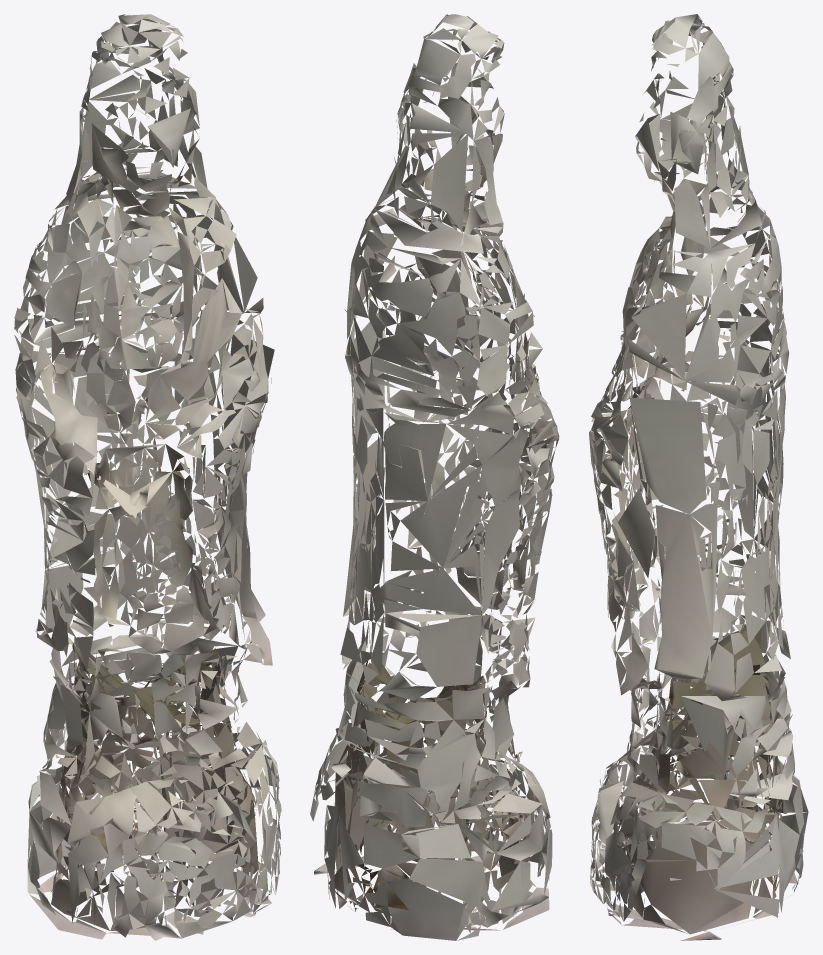
The model's file is far.glb.
3 views of the same model, side by side, from view 1: azimuth 30°, elevation 25°; view 2: azimuth 150°, elevation 25°; view 3: azimuth 270°, elevation 25° (orthographic). The views are drawn at different scales.
Visible parts, largest first — view 1: statue-035; view 2: statue-035; view 3: statue-035.
Part boxes in pixels (left/top/right/bottom): statue-035: left=14, top=14, right=281, bottom=940; statue-035: left=310, top=14, right=559, bottom=940; statue-035: left=589, top=14, right=808, bottom=940.
Size of the model in its own units: 0.2737 by 0.993 by 0.2295.
Materials: 2 (2 with a texture image).
